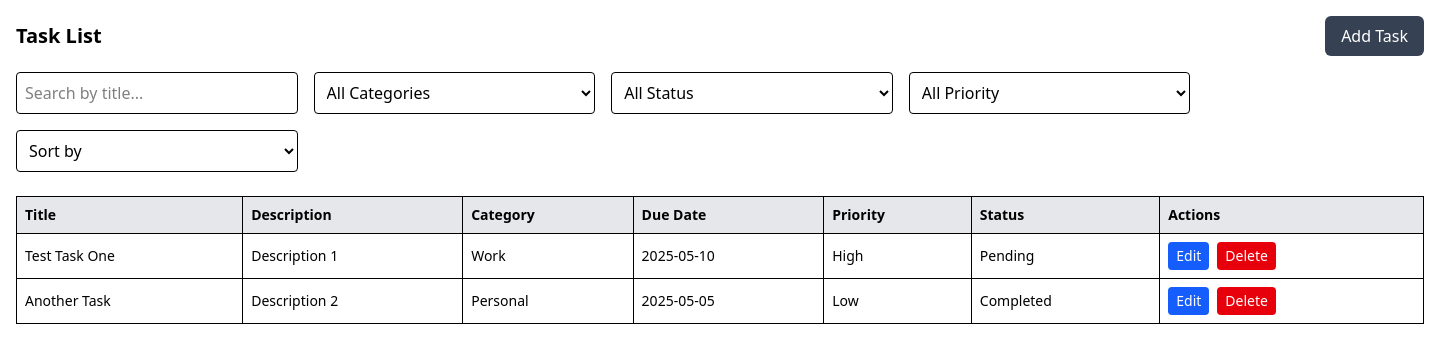
Test: TaskListView.vue › shows "No records found" when there are no matching tasks
The width and height of the screenshot is (1440, 341).
In the field with placeholder "Search by title...": (157, 93) [16,72,298,114], type "nonexistent"
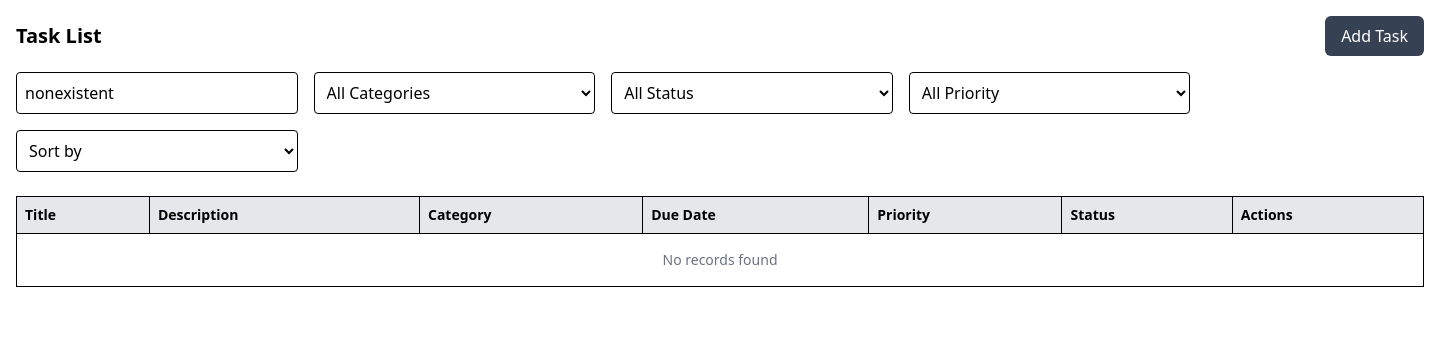
expect the text "No records found" is shown: met, box [16,234,1424,286]
